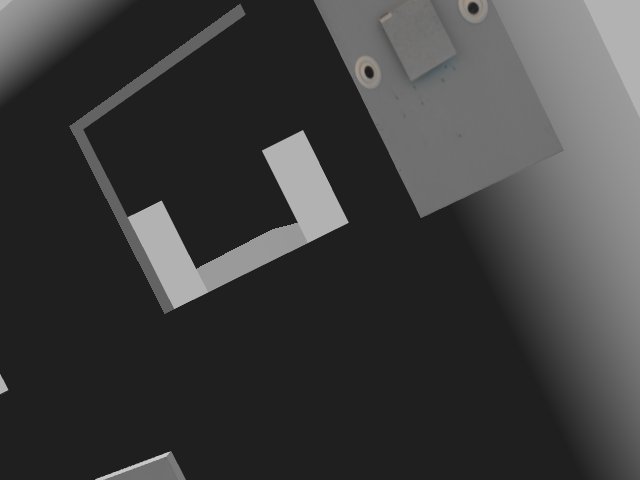facade: (352, 0, 489, 89)
